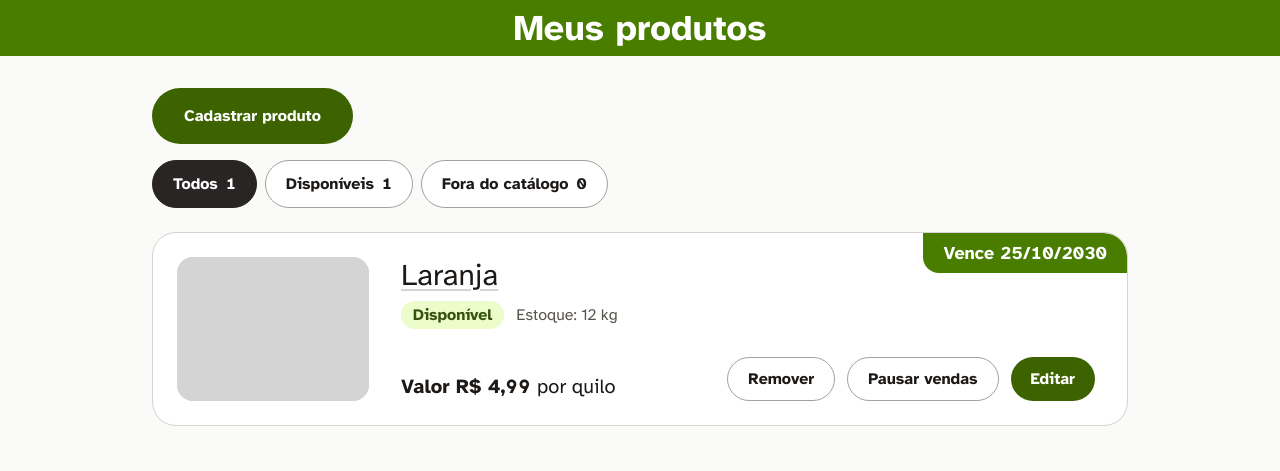
MyProducts, pausing and the tabs › pauses the sales of a product
The image size is (1280, 471).
Click the button "Pausar vendas" at [923, 379], box [847,357,999,401]
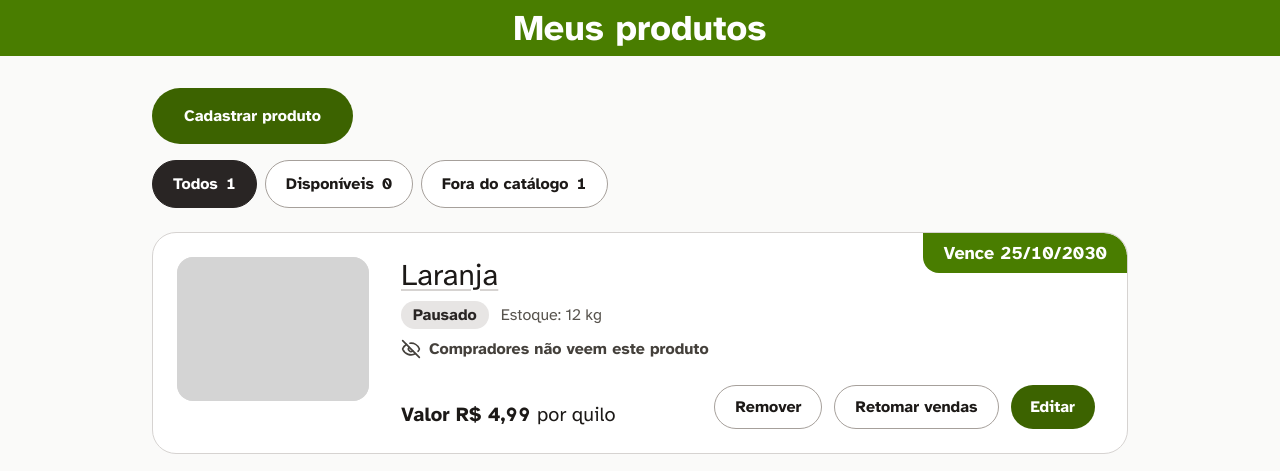
Expected: the button "Retomar vendas" is enabled, [834,385,998,429]
Expected: the text "Pausado" is shown, [401,301,489,329]
